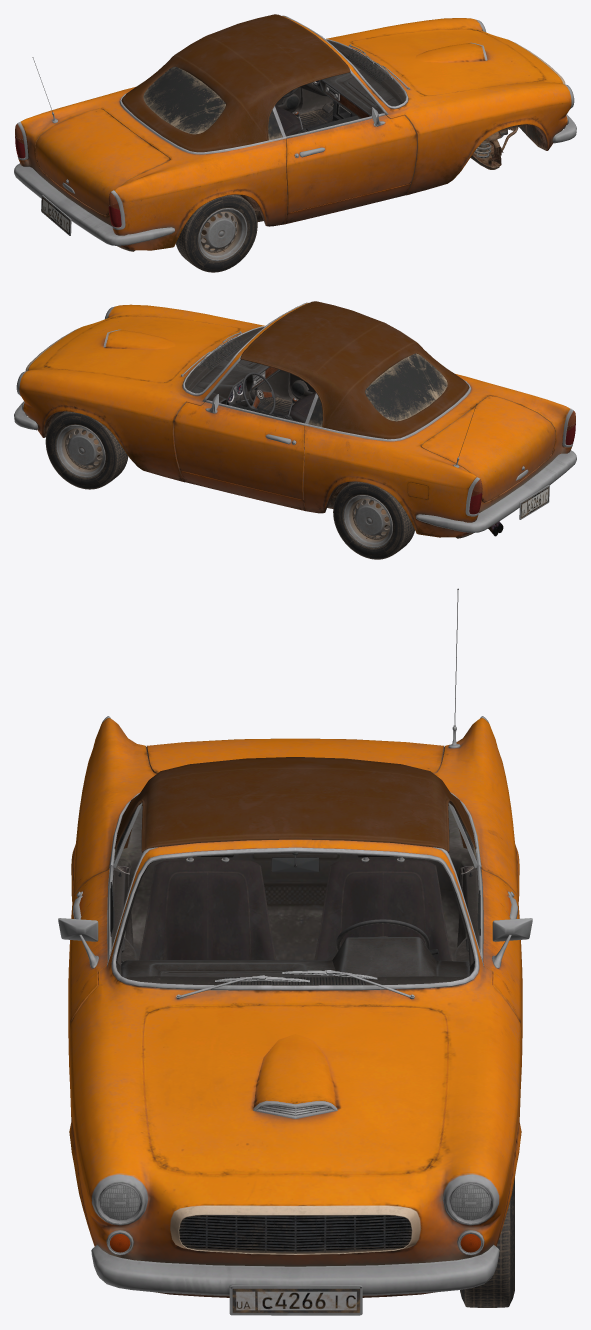
The model's file is coupe-no-wheels.glb.
The picture shows the model from 3 angles, top to bottom: view 1: azimuth 30°, elevation 25°; view 2: azimuth 150°, elevation 25°; view 3: azimuth 270°, elevation 25°; orthographic projection. The views are drawn at different scales.
Visible parts, largest first — view 1: Object_3, Object_2, Object_4, Object_6, Object_5; view 2: Object_3, Object_2, Object_4, Object_6, Object_5; view 3: Object_3, Object_4, Object_5, Object_2.
Boxes of the visible parts, left/top/right/bottom form: Object_3: left=14, top=14, right=576, bottom=250; Object_2: left=117, top=124, right=546, bottom=272; Object_4: left=220, top=40, right=405, bottom=136; Object_6: left=143, top=66, right=359, bottom=140; Object_5: left=15, top=81, right=318, bottom=227; Object_3: left=14, top=301, right=576, bottom=537; Object_2: left=44, top=411, right=503, bottom=559; Object_4: left=185, top=327, right=438, bottom=423; Object_6: left=232, top=353, right=447, bottom=427; Object_5: left=228, top=382, right=575, bottom=514; Object_3: left=58, top=588, right=532, bottom=1315; Object_4: left=111, top=805, right=479, bottom=985; Object_5: left=99, top=1183, right=491, bottom=1253; Object_2: left=460, top=1178, right=514, bottom=1307.
Bounding box in the file's own units: 478 × 159 × 202.
5 materials, 5 textured.
